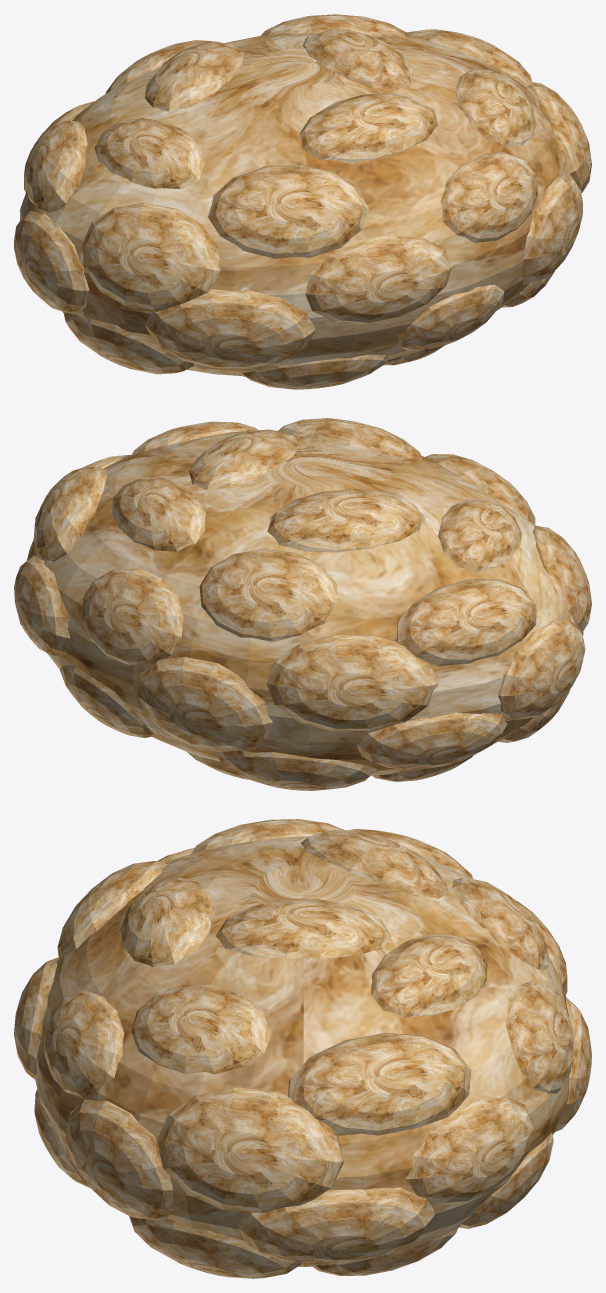
The model's file is wool.obj.
3 views of the same model, one above another, from view 1: azimuth 30°, elevation 25°; view 2: azimuth 150°, elevation 25°; view 3: azimuth 270°, elevation 25° (orthographic). The views are drawn at different scales.
Parts seen in each view (by area): view 1: core, lock_07, lock_12, lock_20, lock_15, lock_02, lock_10, lock_04, lock_17, lock_01, lock_05, lock_00 (+10 smaller); view 2: core, lock_14, lock_06, lock_19, lock_09, lock_11, lock_01, lock_22, lock_17, lock_03, lock_04, lock_00 (+10 smaller); view 3: core, lock_13, lock_08, lock_21, lock_05, lock_16, lock_18, lock_00, lock_03, lock_10, lock_02, lock_11 (+12 smaller).
Boxes of the visible parts, x1,y1,x2,y2 form: core: [20, 33, 571, 376]; lock_07: [208, 164, 368, 258]; lock_12: [81, 202, 220, 311]; lock_20: [145, 289, 315, 368]; lock_15: [305, 234, 452, 324]; lock_02: [299, 93, 437, 162]; lock_10: [440, 152, 538, 242]; lock_04: [94, 118, 205, 188]; lock_17: [14, 211, 89, 314]; lock_01: [145, 42, 244, 111]; lock_05: [455, 69, 536, 146]; lock_00: [303, 29, 413, 90]; core: [27, 430, 583, 775]; lock_14: [266, 635, 438, 731]; lock_06: [199, 548, 337, 641]; lock_19: [136, 656, 272, 751]; lock_09: [396, 579, 536, 666]; lock_11: [82, 568, 183, 665]; lock_01: [267, 489, 425, 552]; lock_22: [356, 712, 507, 769]; lock_17: [498, 618, 585, 720]; lock_03: [111, 477, 205, 551]; lock_04: [438, 499, 521, 571]; lock_00: [189, 429, 300, 490]; core: [34, 836, 569, 1266]; lock_13: [156, 1087, 344, 1213]; lock_08: [288, 1032, 471, 1135]; lock_21: [237, 1187, 434, 1264]; lock_05: [131, 984, 271, 1074]; lock_16: [406, 1097, 533, 1206]; lock_18: [65, 1099, 174, 1220]; lock_00: [215, 899, 391, 958]; lock_03: [370, 934, 487, 1017]; lock_10: [44, 991, 124, 1097]; lock_02: [120, 878, 214, 966]; lock_11: [505, 981, 574, 1093].
Size of the model in its own units: 112 by 60.25 by 90.84.
Materials: 1 (1 with a texture image).
